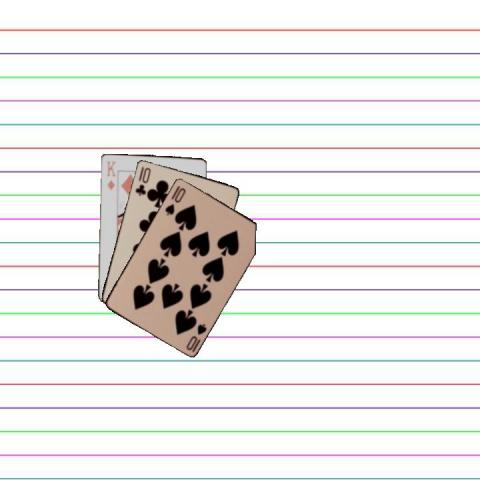10c: (132, 163, 152, 197)
10s: (162, 185, 187, 216), (183, 321, 208, 351)
Kd: (104, 158, 117, 191)
